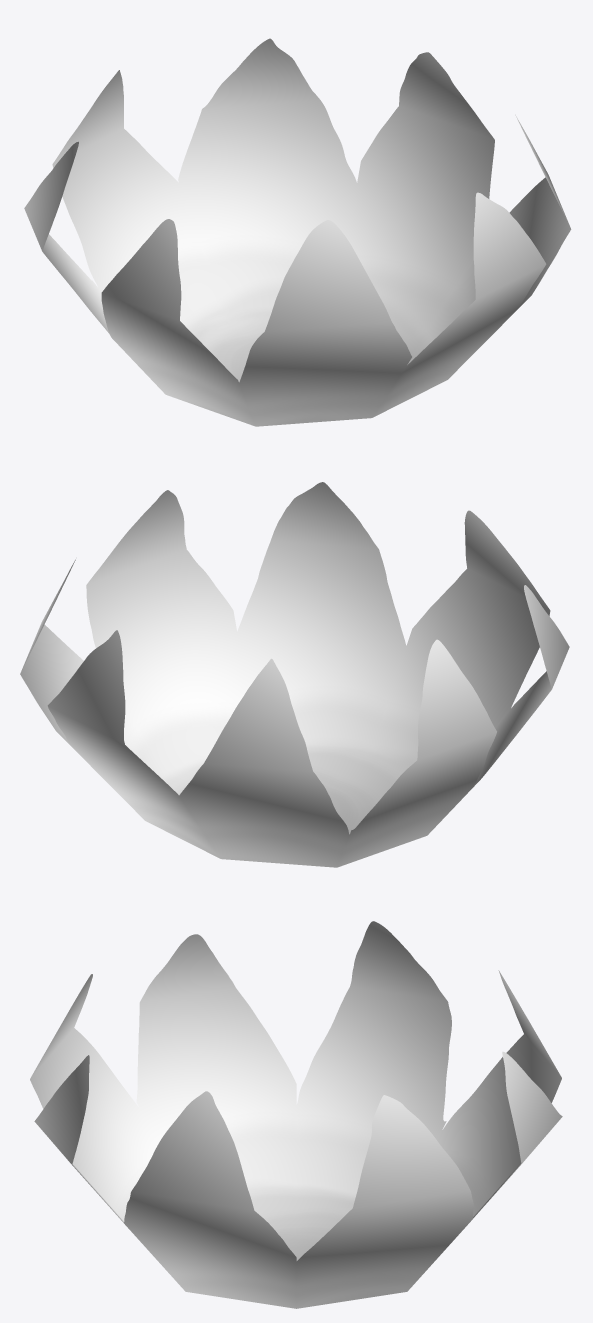
Rendered from Flower_Small_01.fbx.
3 renders of one model, top to bottom at view 1: azimuth 30°, elevation 25°; view 2: azimuth 150°, elevation 25°; view 3: azimuth 270°, elevation 25°, orthographic.
Visible parts, largest first — view 1: Plane; view 2: Plane; view 3: Plane.
Boxes of the visible parts, x1,y1,x2,y2 form: Plane: (24, 38, 571, 426); Plane: (20, 482, 569, 867); Plane: (30, 921, 562, 1308).
Size of the model in its own units: 0.9167 by 0.4841 by 0.9167.
1 material, 1 textured.
